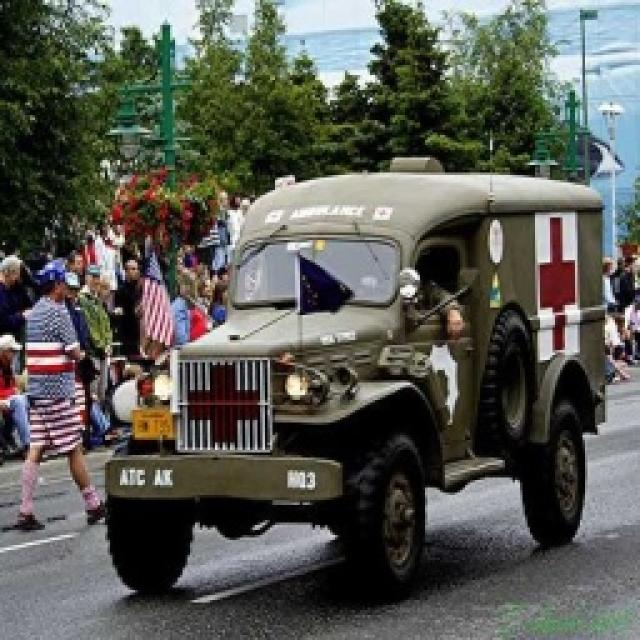emergency-vehicle: (118, 166, 610, 595)
